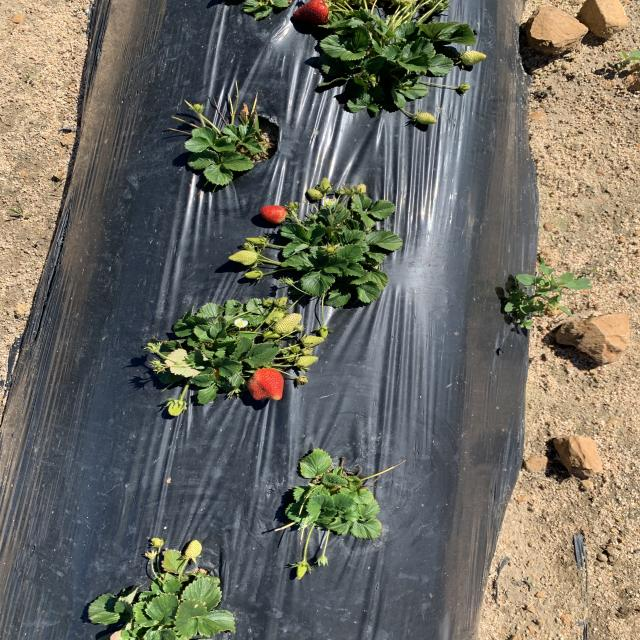unripe: (248, 363, 291, 403), (289, 0, 333, 22), (261, 203, 291, 224)
